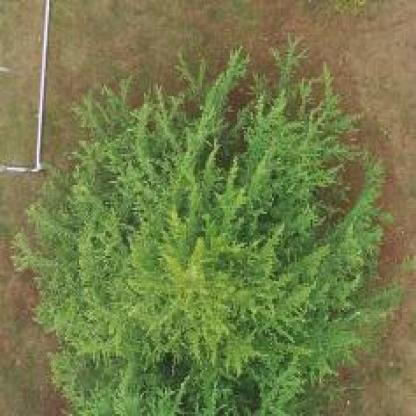Coniferous Tree: (16, 38, 367, 416)
